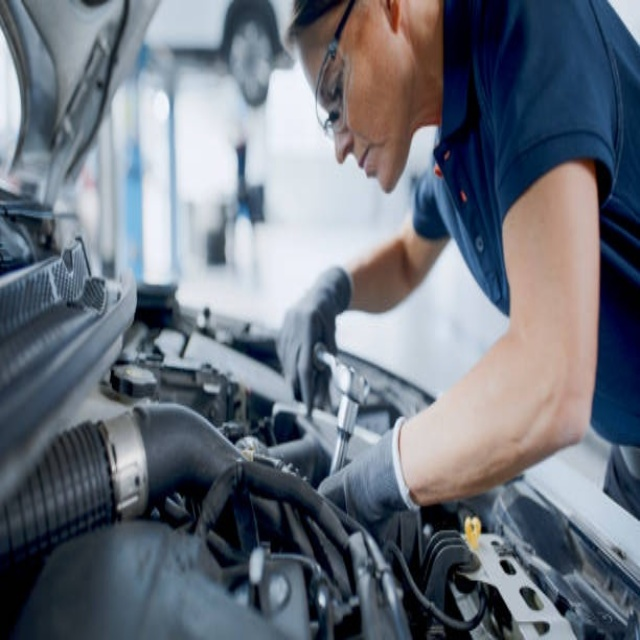Gafas: (316, 0, 368, 139)
Guantes: (307, 402, 429, 543), (271, 249, 352, 406)
Sin_mascara: (349, 138, 392, 192)
